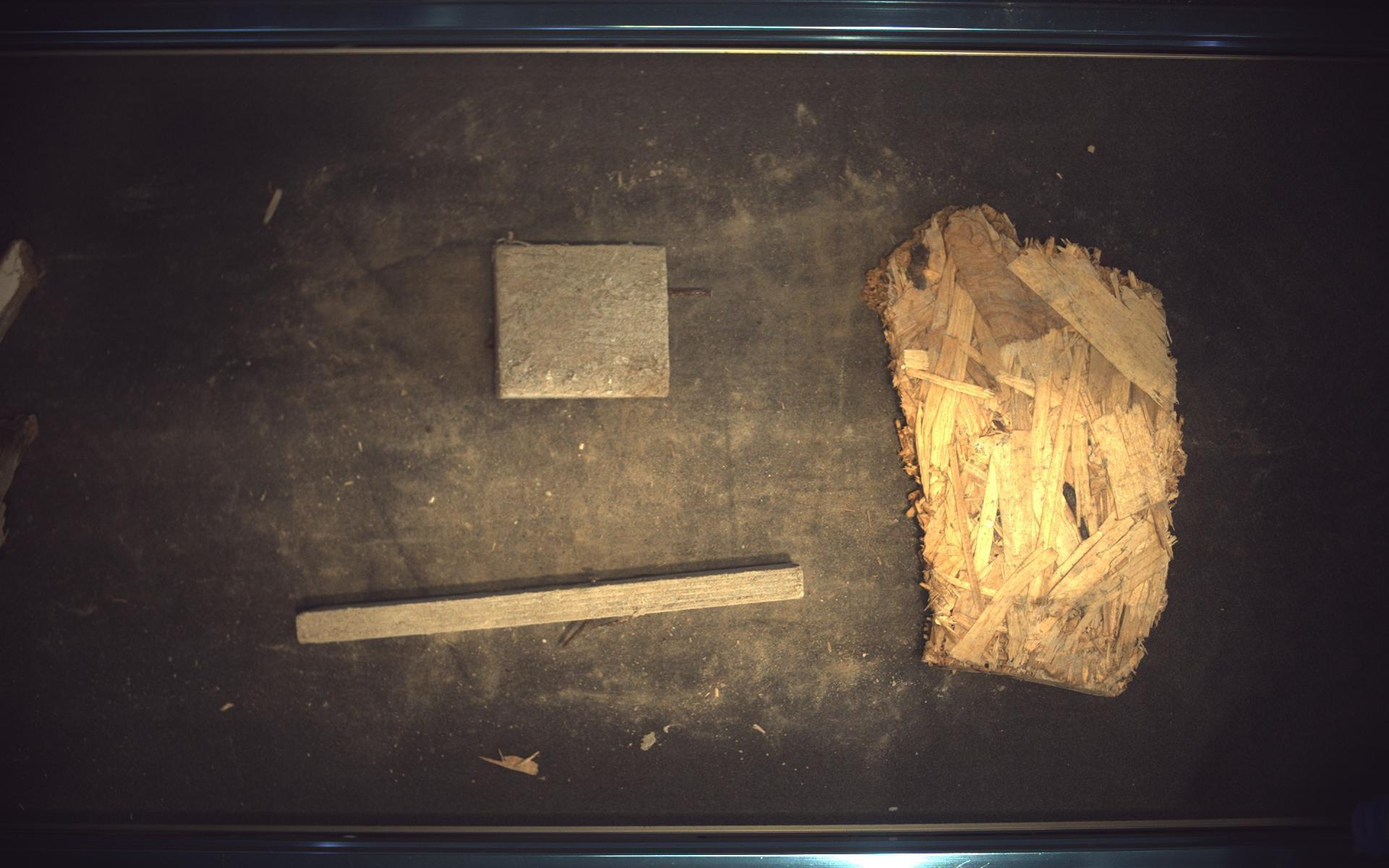wood: (864, 204, 1188, 697), (297, 566, 805, 644), (494, 243, 671, 398), (1, 414, 36, 545), (1, 239, 40, 339)
